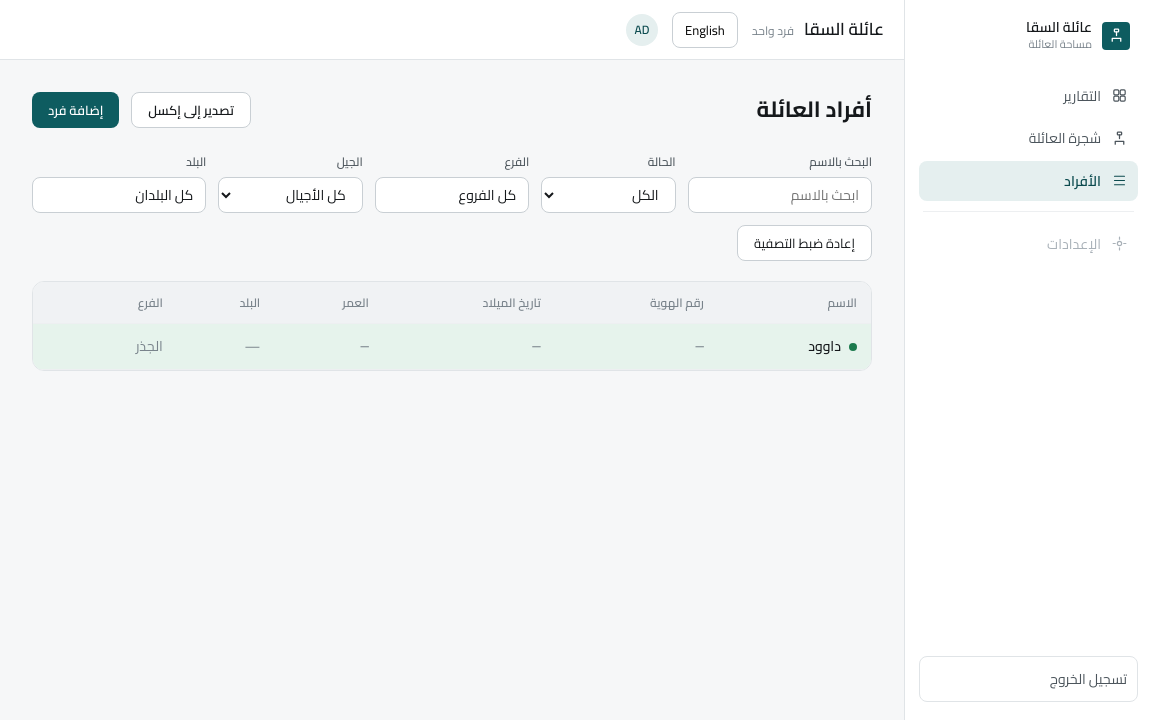
Test: MembersPage export › reports a failed export without claiming a cause it does not know
Click the button "تصدير إلى إكسل". click: (191, 110)
box: x1=131 y1=92 x2=251 y2=128
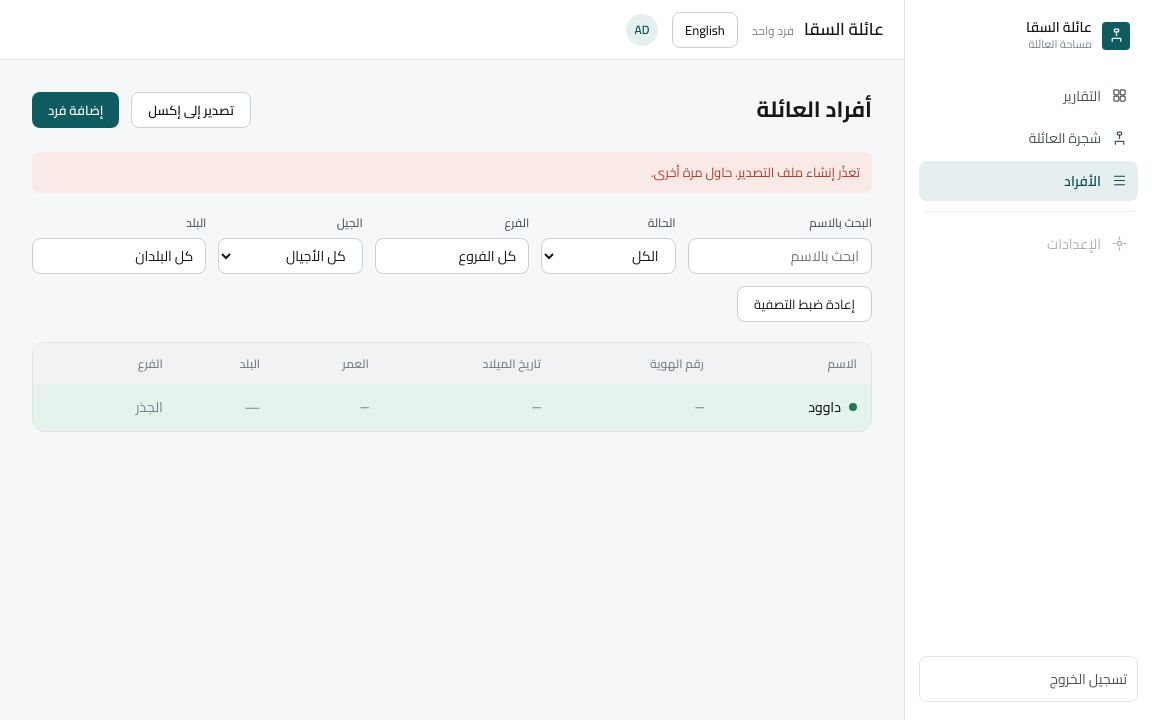
Result: the text "تعذّر إنشاء ملف التصدير. حاول مرة أخرى." is shown at x1=32 y1=152 x2=872 y2=193
